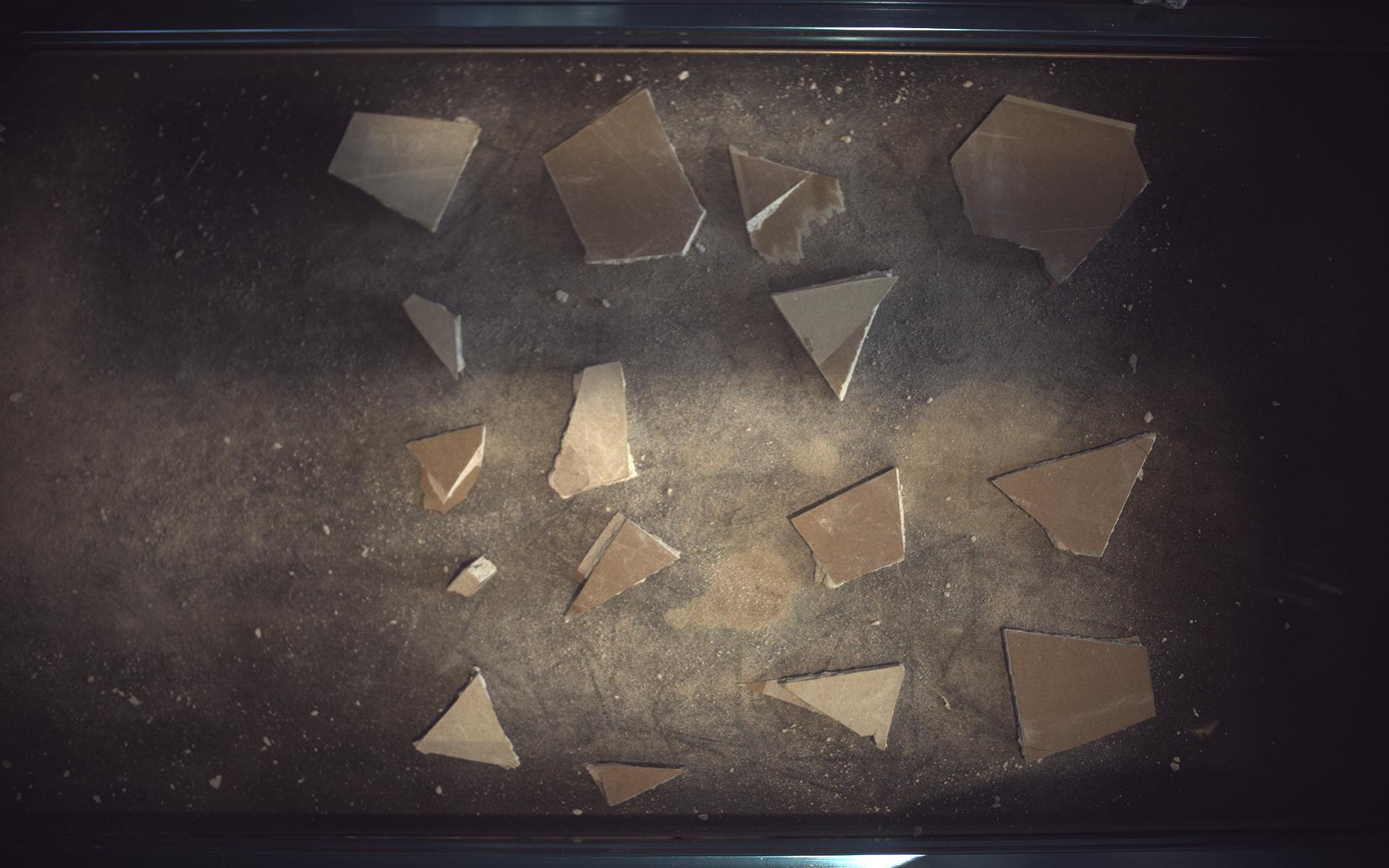gypsum_board: (953, 94, 1150, 286), (544, 87, 707, 263), (993, 433, 1159, 558), (1006, 629, 1158, 762), (328, 111, 480, 231), (773, 271, 900, 400), (792, 468, 906, 590), (731, 145, 846, 264), (748, 665, 907, 751), (565, 513, 681, 624), (549, 362, 637, 498), (415, 670, 520, 770), (407, 425, 486, 514), (403, 294, 465, 380), (585, 765, 686, 808), (447, 557, 497, 597)
